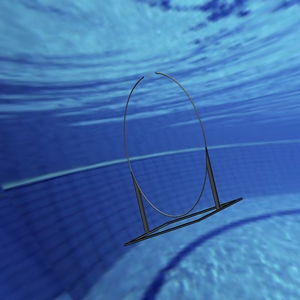circle: (118, 69, 244, 248)
